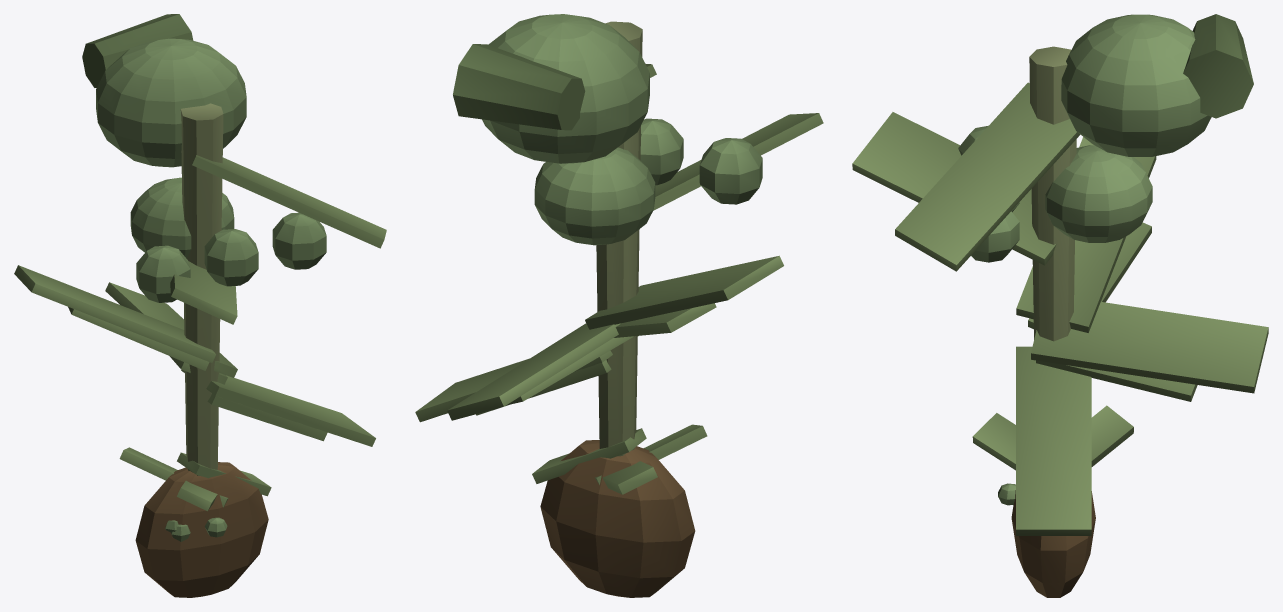
File: crop_pea_shooter.glb
3 renders of one model, left to right at view 1: azimuth 30°, elevation 25°; view 2: azimuth 150°, elevation 25°; view 3: azimuth 270°, elevation 25°, orthographic. The views are drawn at different scales.
Parts seen in each view (by area): view 1: head, seed_mound, stalk, leaf.002, leaf.004, head2, leaf, barrel, pod.001, pod.002, leaf.003, pod (+6 smaller); view 2: seed_mound, head, head2, barrel, stalk, leaf.002, leaf.001, pod, leaf.003, pod.001, leaf, leaf2.002 (+5 smaller); view 3: head, leaf.004, leaf.001, leaf, head2, stalk, leaf.003, barrel, seed_mound, leaf.002, leaf2.001, sprout_leaf.001 (+3 smaller).
Part boxes in pixels (box(x1,y1,x2,y2)): head: box(96, 38, 246, 167); seed_mound: box(135, 462, 268, 597); stalk: box(180, 103, 223, 475); leaf.002: box(14, 265, 215, 362); leaf.004: box(192, 155, 386, 248); head2: box(130, 177, 234, 258); leaf: box(181, 369, 375, 446); barrel: box(82, 14, 193, 87); pod.001: box(204, 229, 258, 286); pod.002: box(272, 212, 326, 269); leaf.003: box(170, 261, 237, 324); pod: box(136, 245, 190, 302); seed_mound: box(540, 440, 695, 597); head: box(482, 14, 649, 163); head2: box(534, 147, 655, 245); barrel: box(453, 44, 585, 130); stalk: box(596, 21, 642, 456); leaf.002: box(585, 255, 783, 329); leaf.001: box(447, 323, 620, 420); pod: box(699, 138, 762, 204); leaf.003: box(653, 113, 823, 210); pod.001: box(640, 118, 683, 185); leaf: box(415, 336, 638, 422); leaf2.002: box(614, 303, 716, 337); head: box(1061, 14, 1211, 156); leaf.004: box(895, 82, 1080, 271); leaf.001: box(1031, 302, 1268, 393); leaf: box(1016, 346, 1091, 535); head2: box(1045, 145, 1152, 242); stalk: box(1029, 46, 1076, 341); leaf.003: box(852, 112, 1056, 265); barrel: box(1183, 14, 1253, 118); seed_mound: box(1011, 490, 1095, 597); leaf.002: box(1016, 137, 1156, 332); leaf2.001: box(1036, 360, 1197, 401); sprout_leaf.001: box(1091, 405, 1133, 466).
Size of the model in its own units: 0.7379 by 1.17 by 0.7689.
